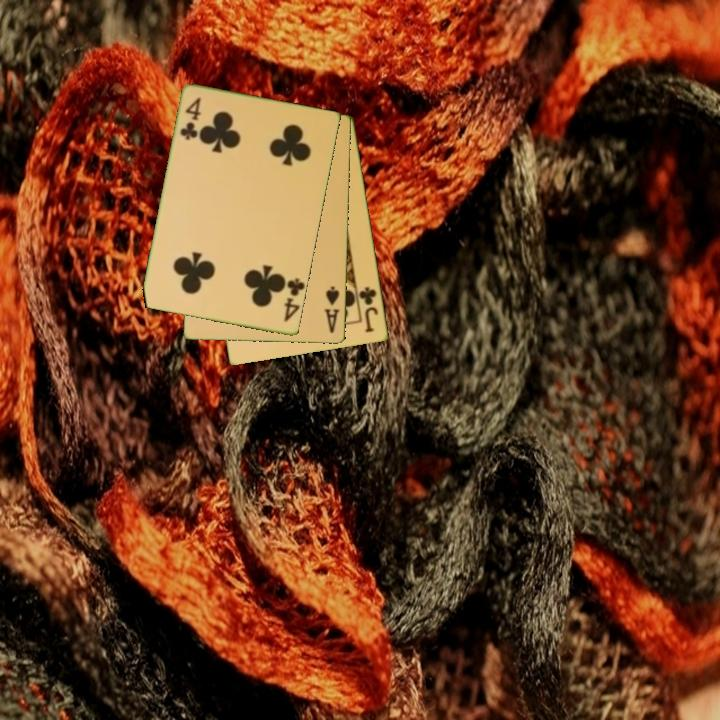4c: (177, 94, 204, 143), (281, 275, 307, 325)
As: (321, 283, 343, 336)
Jc: (356, 283, 381, 336)
